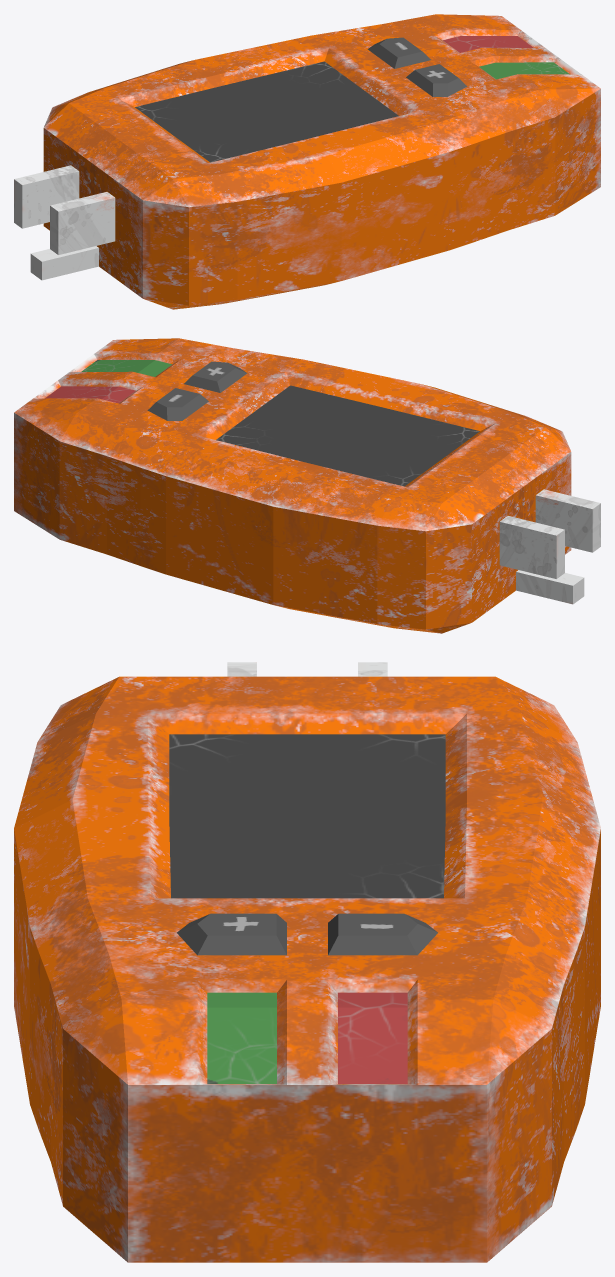
The model's file is Socket_Tester.fbx.
3 views of the same model, one above another, from view 1: azimuth 30°, elevation 25°; view 2: azimuth 150°, elevation 25°; view 3: azimuth 270°, elevation 25° (orthographic). The views are drawn at different scales.
Parts seen in each view (by area): view 1: Socket Tester; view 2: Socket Tester; view 3: Socket Tester.
Part boxes in pixels (bbox=[...]): Socket Tester: bbox=[14, 14, 600, 309]; Socket Tester: bbox=[14, 338, 600, 633]; Socket Tester: bbox=[14, 662, 600, 1262].
Bounding box in the file's own units: 453 × 116 × 247.
Materials: 2 (2 with a texture image).
